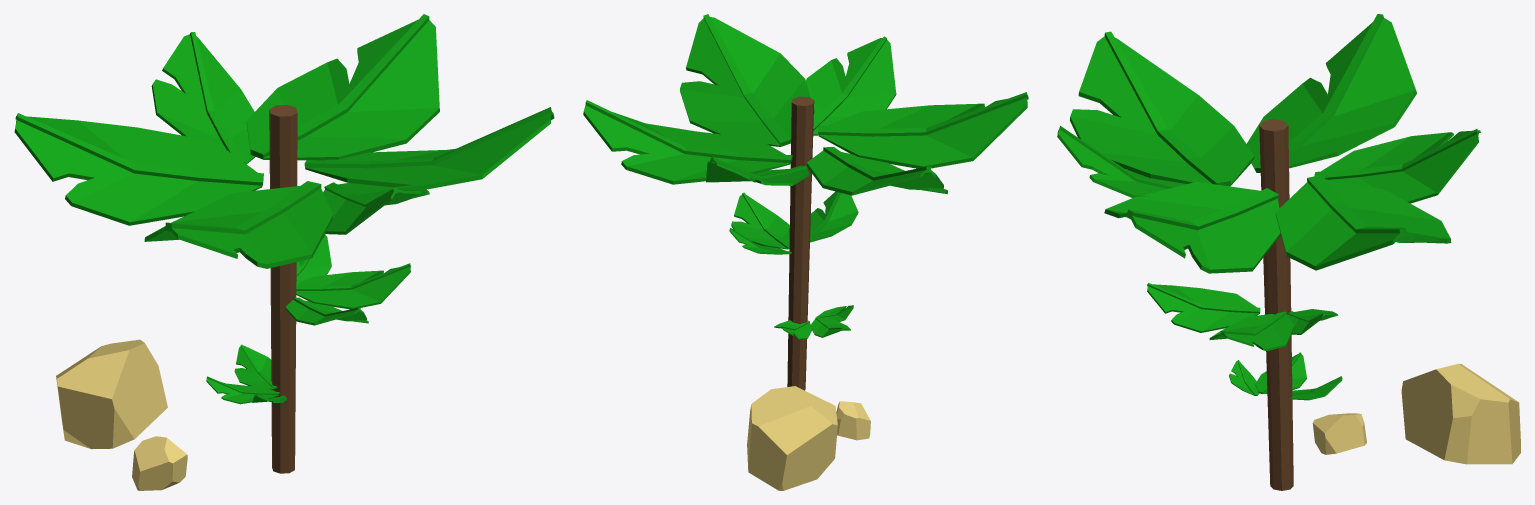
The model's file is plant.fbx.
The picture shows the model from 3 angles, left to right: view 1: azimuth 30°, elevation 25°; view 2: azimuth 150°, elevation 25°; view 3: azimuth 270°, elevation 25°; orthographic projection. The views are drawn at different scales.
Parts seen in each view (by area): view 1: plant; view 2: plant; view 3: plant.
Part boxes in pixels (<box>): plant: <box>14,14,554,490</box>; plant: <box>583,14,1028,490</box>; plant: <box>1057,14,1520,490</box>.
Bounding box in the file's own units: 44.03 × 37.72 × 41.42.
